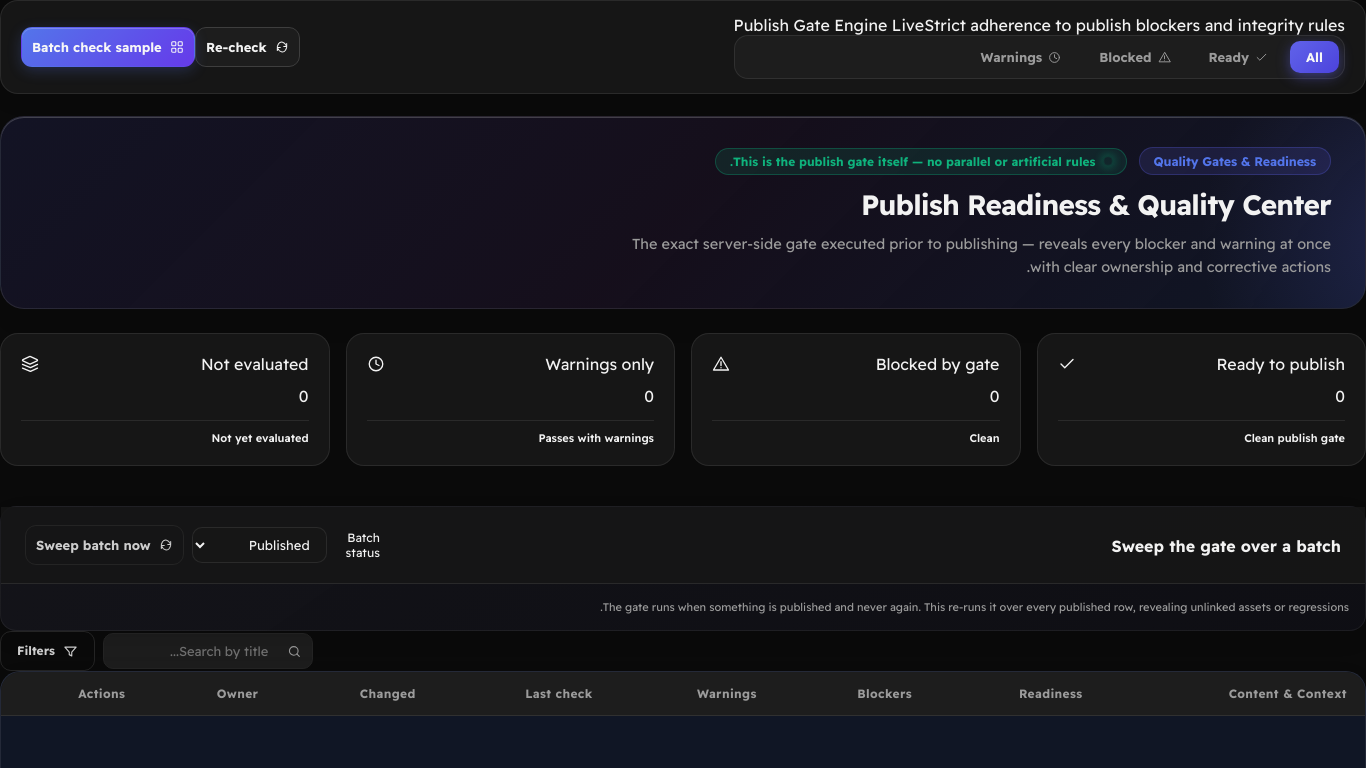
Test: مسح البوابة › صفٌّ تعذّر تقييمه يُعرض «غير معروف» ولا يُطوى
Step 1. Click the button "Sweep batch now" → (104, 545), box 25,525 -> 184,565
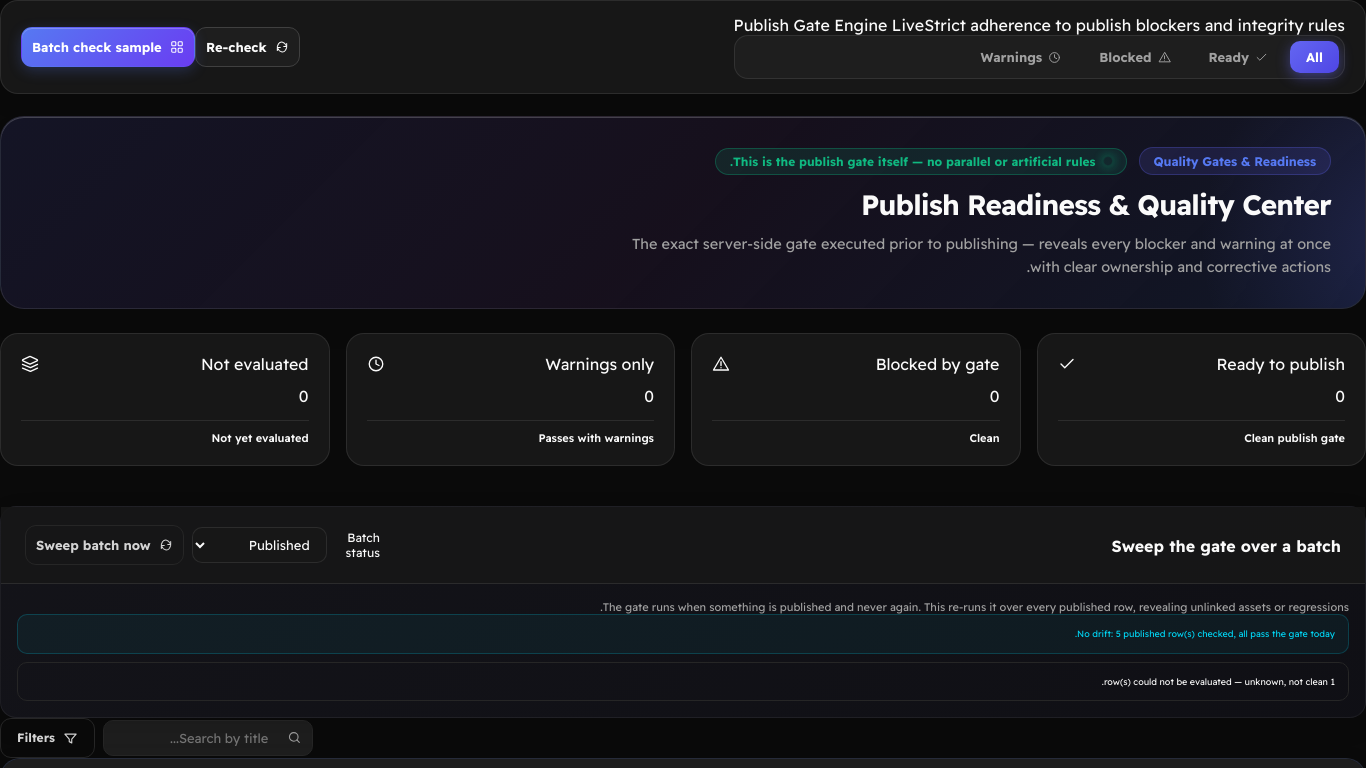
Expected: the text "1 row(s) could not be evaluated — unknown, not clean." is shown, 17,662 -> 1349,701
